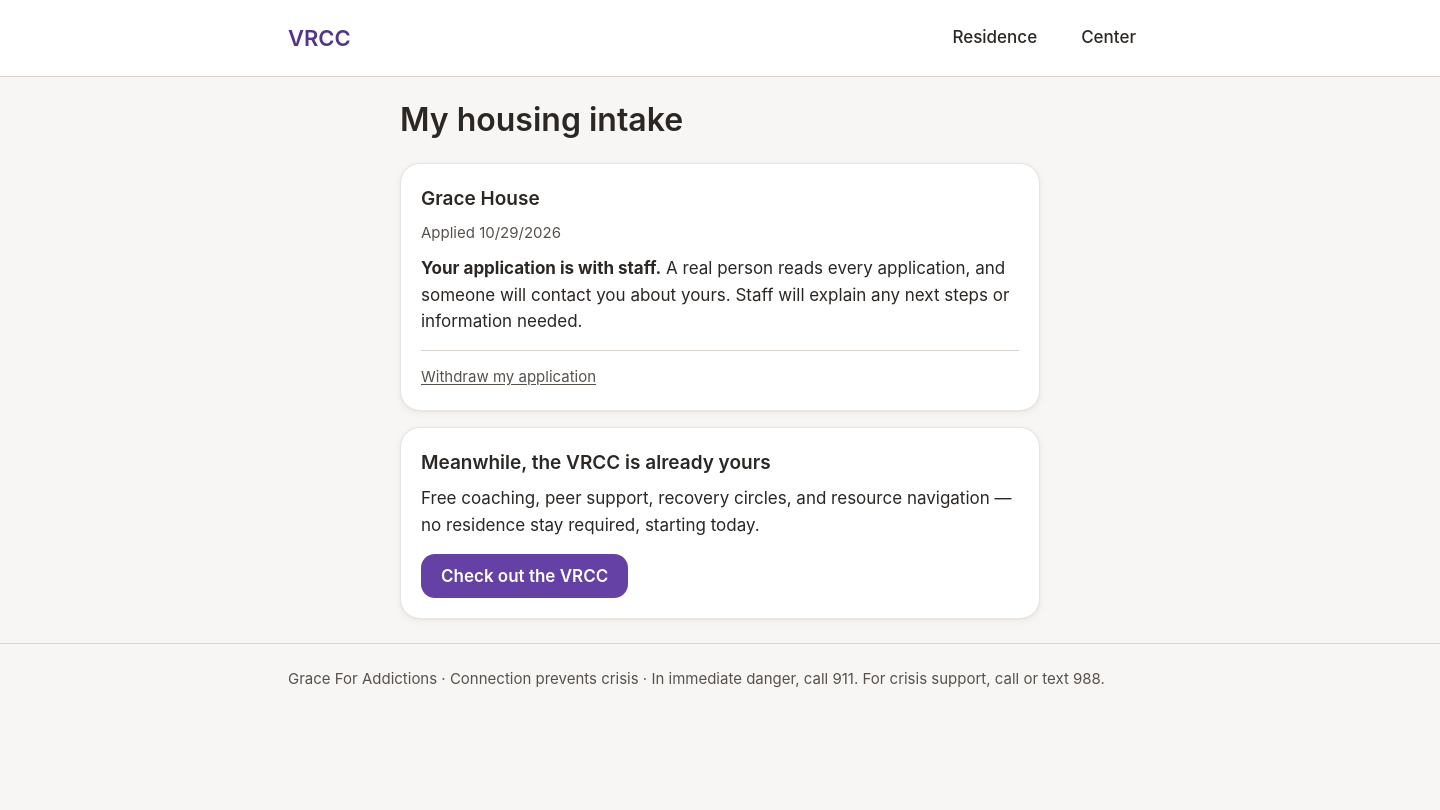
Test: MyApplicationPage withdraw › surfaces a server refusal instead of lying about the state
Click the button "Withdraw my application": coordinates (509, 377) [421,366,596,388]
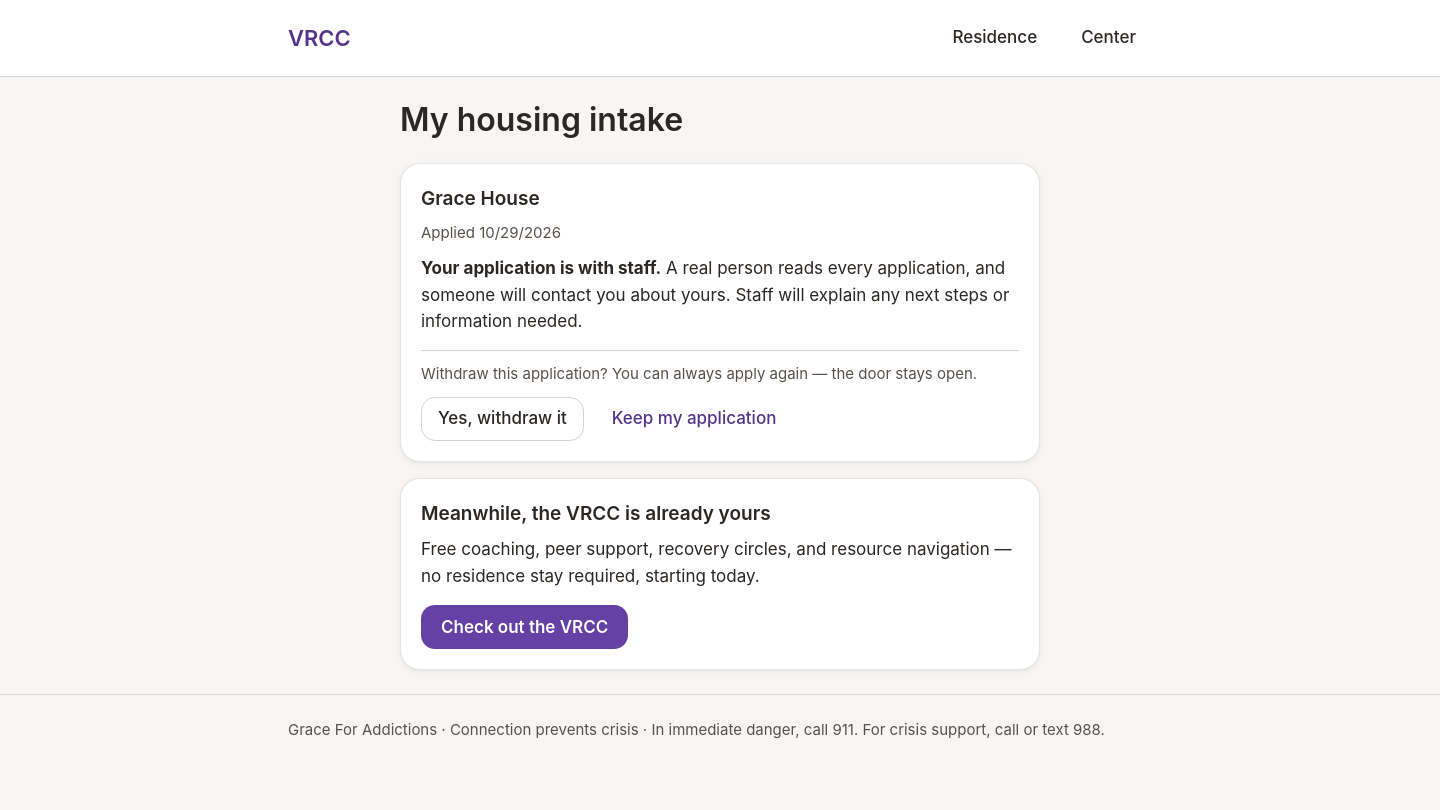
Click the button "Yes, withdraw it": coordinates (502, 419) [421,397,584,441]
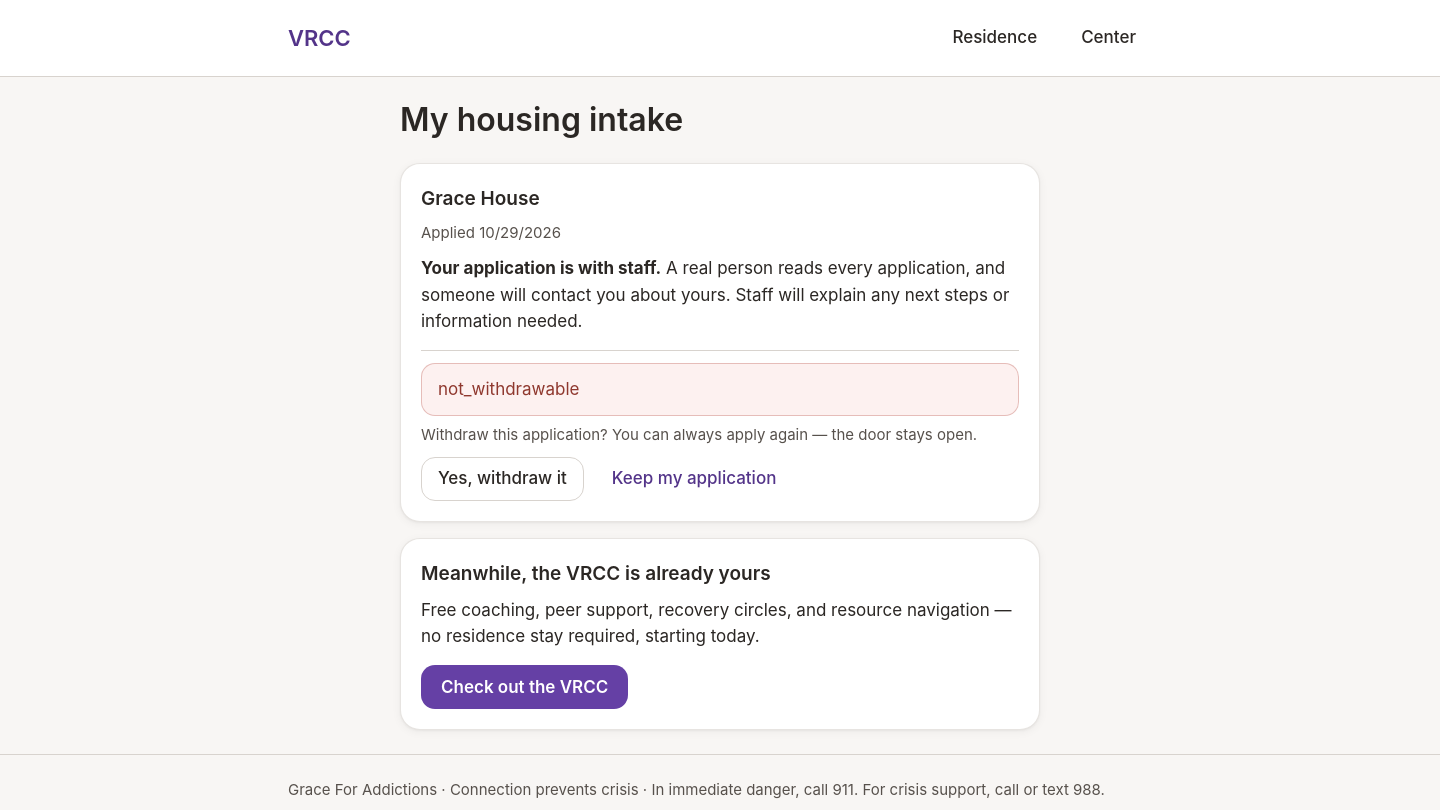
Expected: the text "not_withdrawable" is shown, [421,363,1019,416]
